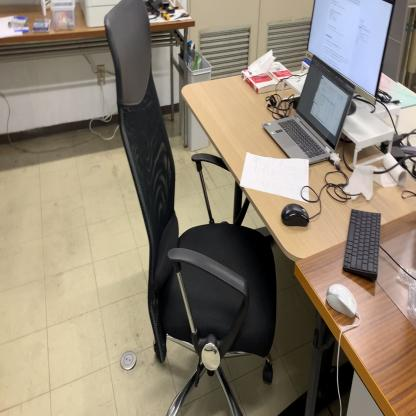chair: (104, 1, 278, 413)
